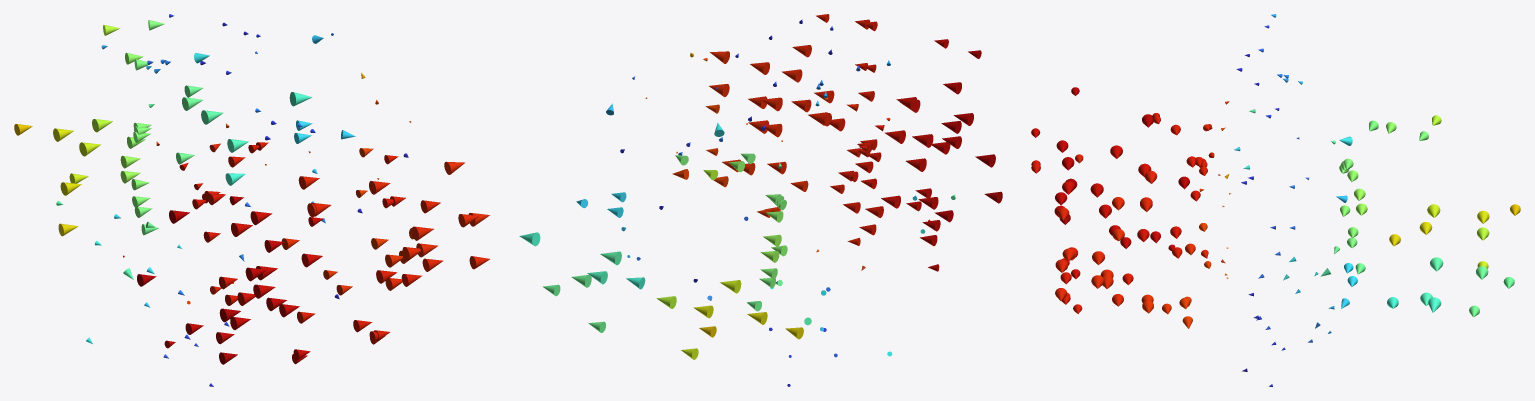
File: LineasCorrienteH2-O2_mh2-1.38_V-0.9.glb
3 views of the same model, side by side, from view 1: azimuth 30°, elevation 25°; view 2: azimuth 150°, elevation 25°; view 3: azimuth 270°, elevation 25° (orthographic). The views are drawn at different scales.
Size of the model in its own units: 0.000924 by 0.000952 by 0.00123.
2 materials, 2 textured.
